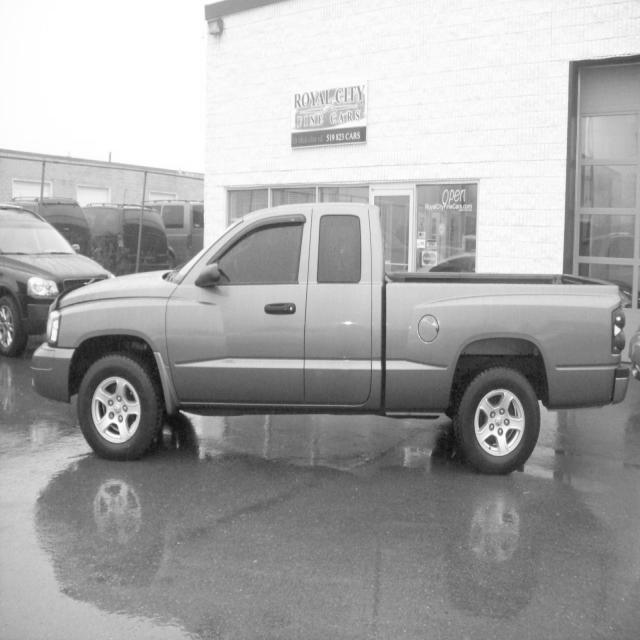car: (31, 202, 631, 477), (0, 203, 116, 357)
